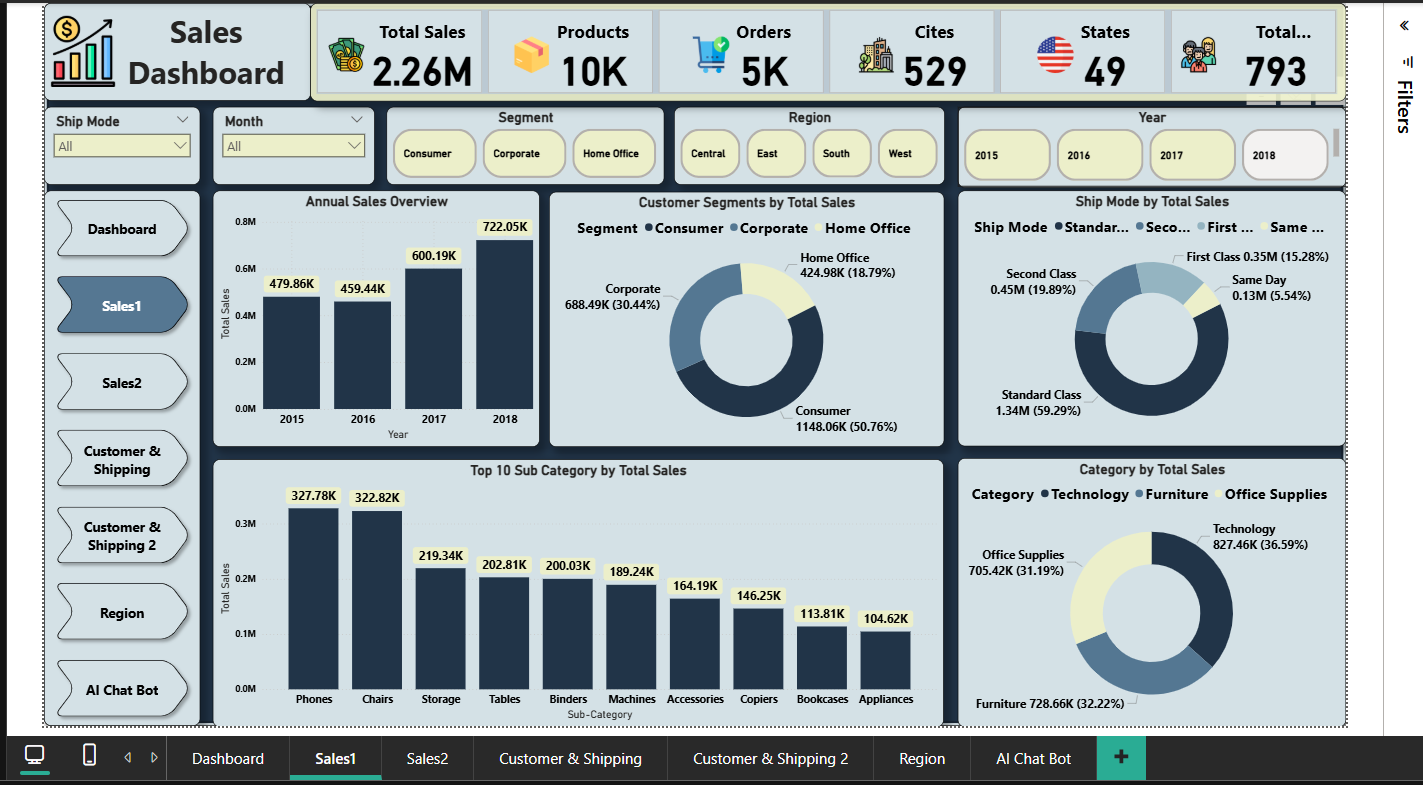

The dashboard page shown, as its layout file describes it:
{"tool":"powerbi","page":{"name":"Sales1","canvas":[1800,1000],"ordinal":1},"visuals":[{"type":"shape","box":[0,0,1800,1000.2],"z":0},{"type":"advancedSlicerVisual","fields":{"Values":["Calender_Table.Year"]},"box":[0,96.5,140.9,403.3],"z":1000},{"type":"textbox","box":[625.2,0,550,96.5],"z":2000},{"type":"slicer","fields":{"Values":["Calender_Table.Month_Name"]},"box":[0,535,122.3,57.7],"z":3000},{"type":"slicer","fields":{"Values":["DIM_Customer.Segment"]},"box":[0,873,122.3,127.4],"z":4000},{"type":"slicer","fields":{"Values":["DIM_Location.Region"]},"box":[0,699.7,122.3,154.6],"z":5000},{"type":"slicer","fields":{"Values":["Superstore Sales Dataset.Ship Mode"]},"box":[0,611.4,122.3,66.2],"z":6000},{"type":"cardVisual","fields":{"Data":["_Measures.Total_Sales","_Measures.Total_Products","_Measures.Total_Orders","_Measures.Total_Cites","_Measures.Total_States","_Measures.Total Customers"]},"box":[156.3,96.5,1617.1,135.1],"z":7000},{"type":"columnChart","title":"Annual Sales Overview","fields":{"Y":["_Measures.Total Sales"],"Category":["Calender_Table.Year"]},"box":[156.3,247,598.2,364.7],"z":8000},{"type":"donutChart","title":"Each Customer Segments by Total Sales","fields":{"Y":["_Measures.Total Sales"],"Category":["DIM_Customer.Segment"]},"box":[773.8,247,474.7,364.7],"z":9000},{"type":"donutChart","title":" Each Ship Mode by Total Sales ","fields":{"Y":["_Measures.Total Sales"],"Category":["Superstore Sales Dataset.Ship Mode"]},"box":[1263.9,247,509.4,366.6],"z":10000},{"type":"donutChart","title":"Each Category by  Total Sales ","fields":{"Category":["DIM_Product.Category"],"Y":["_Measures.Total Sales"]},"box":[1263.9,629.1,509.4,370.5],"z":11000},{"type":"columnChart","title":"Top 10 best-selling Sub Category","fields":{"Y":["_Measures.Total Sales"],"Category":["DIM_Product.Sub-Category"]},"box":[156.3,629.1,1092.2,370.5],"z":12000}]}

Visuals, with their boxes on the page's 1800x1000 design canvas (x1, y1, x2, y2). These are canvas units, not pixel positions in the 1423x785 screenshot, which may show the page scaled, cropped or inside an application window:
shape: 0:0:1800:1000
advancedSlicerVisual - Calender_Table.Year: 0:96:141:500
textbox: 625:0:1175:96
slicer - Calender_Table.Month_Name: 0:535:122:593
slicer - DIM_Customer.Segment: 0:873:122:1000
slicer - DIM_Location.Region: 0:700:122:854
slicer - Superstore Sales Dataset.Ship Mode: 0:611:122:678
cardVisual - _Measures.Total_Sales x _Measures.Total_Products: 156:96:1773:232
"Annual Sales Overview" columnChart: 156:247:754:612
"Each Customer Segments by Total Sales" donutChart: 774:247:1248:612
" Each Ship Mode by Total Sales " donutChart: 1264:247:1773:614
"Each Category by  Total Sales " donutChart: 1264:629:1773:1000
"Top 10 best-selling Sub Category" columnChart: 156:629:1248:1000
